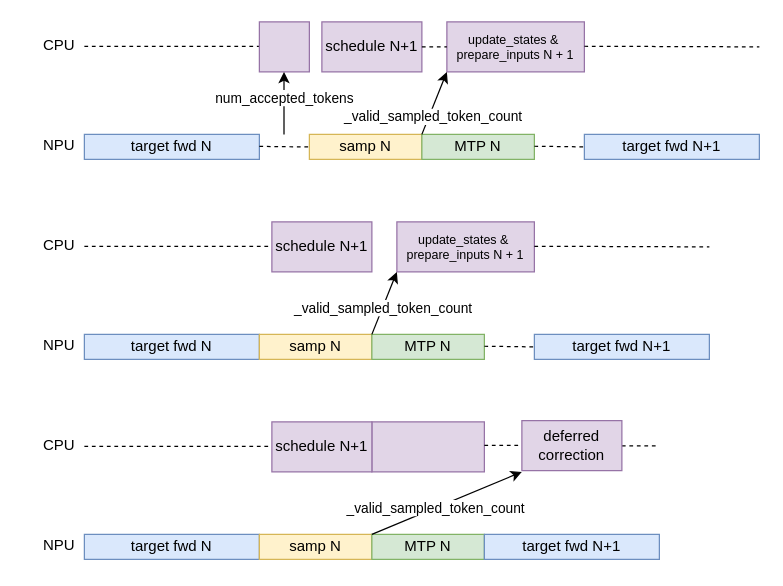
The diagram is 783 pixels wide and 586 high, and some of its shapes have lost their labels. Each missing label, with the centre of its shape:
"optimistically update_states & prepare_inputs N + 1" belongs at [427,446].
"update_ states_ after_ model_ execute" belongs at [283,46].
